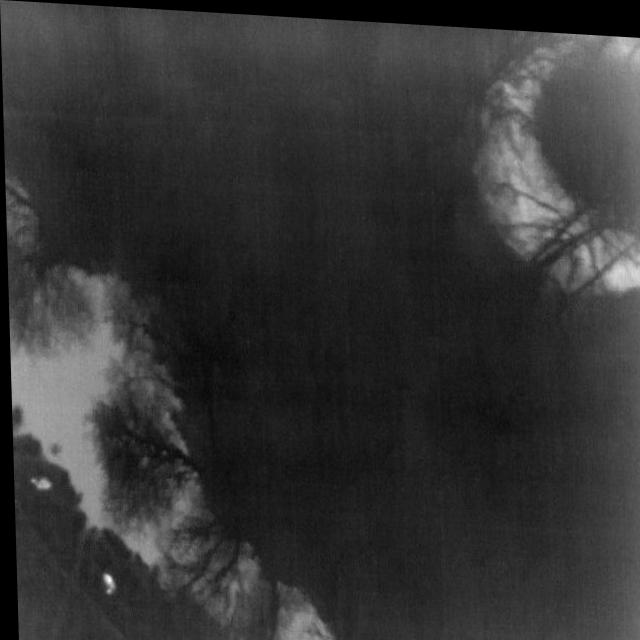deer: (26, 475, 50, 490), (99, 570, 114, 594)
